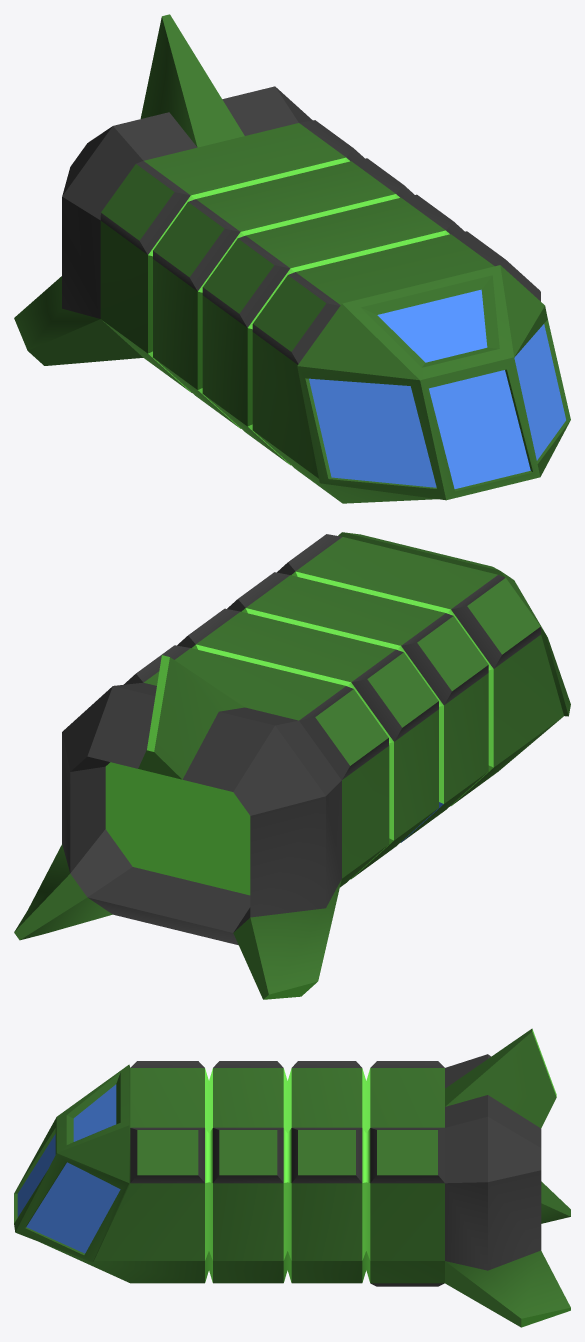
The model's file is Ship_2x4_B1.fbx.
The picture shows the model from 3 angles, top to bottom: view 1: azimuth 30°, elevation 25°; view 2: azimuth 150°, elevation 25°; view 3: azimuth 270°, elevation 25°; orthographic projection. The views are drawn at different scales.
Visible parts, largest first — view 1: Ship_2x4_B1; view 2: Ship_2x4_B1; view 3: Ship_2x4_B1.
Boxes of the visible parts, x1,y1,x2,y2 form: Ship_2x4_B1: [14, 14, 570, 503]; Ship_2x4_B1: [14, 532, 570, 999]; Ship_2x4_B1: [14, 1028, 570, 1327].
Bounding box in the file's own units: 177 × 183 × 373.
